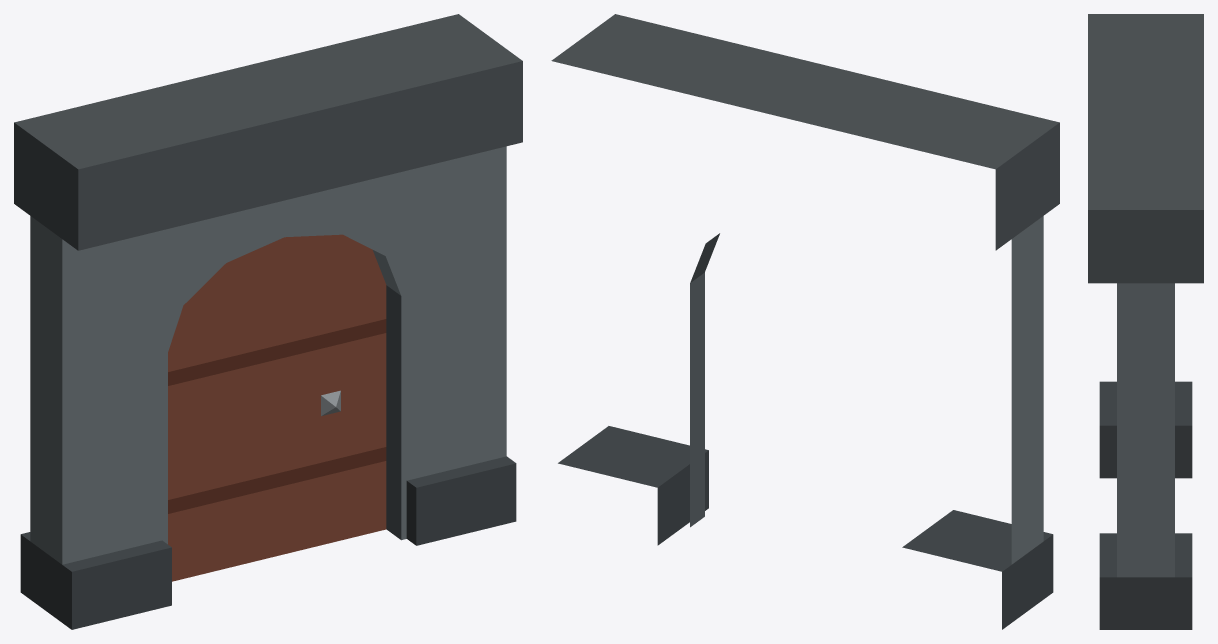
Rendered from door_castle.glb.
3 views of the same model, side by side, from view 1: azimuth 30°, elevation 25°; view 2: azimuth 150°, elevation 25°; view 3: azimuth 270°, elevation 25° (orthographic). The views are drawn at different scales.
Parts seen in each view (by area): view 1: door_castle; view 2: door_castle; view 3: door_castle.
Boxes of the visible parts, x1=… form: door_castle: x1=14, y1=14, x2=522, y2=629; door_castle: x1=551, y1=14, x2=1059, y2=629; door_castle: x1=1088, y1=14, x2=1203, y2=629.
Bounding box in the file's own units: 4 × 4 × 1.
